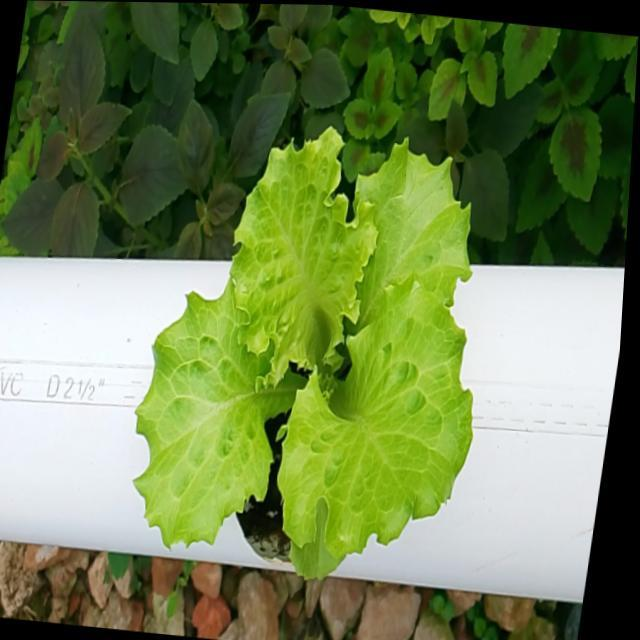Baby: (131, 116, 470, 571)
